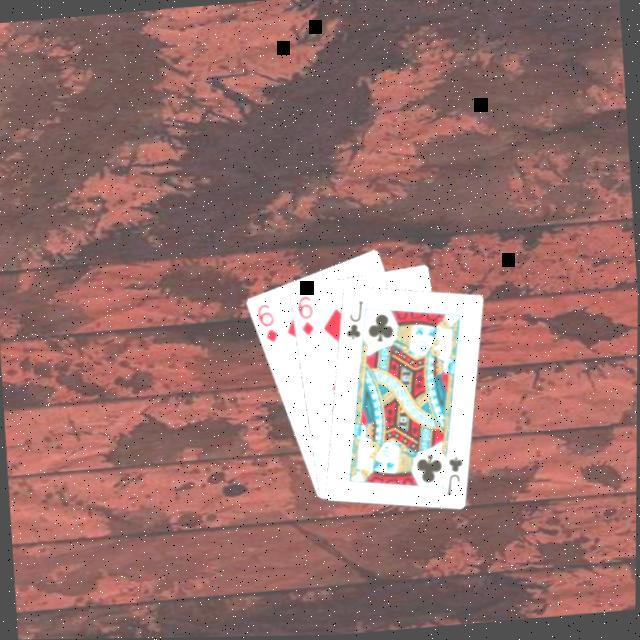6D: (250, 297, 279, 345), (291, 290, 315, 337)
JC: (337, 295, 366, 341), (439, 451, 466, 497)
